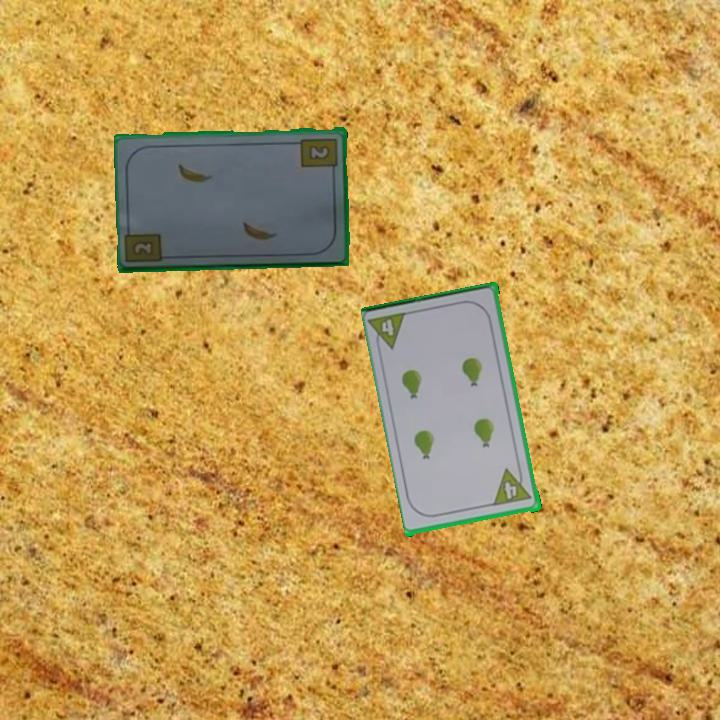2b: (298, 134, 340, 175), (131, 237, 156, 258)
4p: (490, 467, 522, 506), (378, 316, 398, 339)
